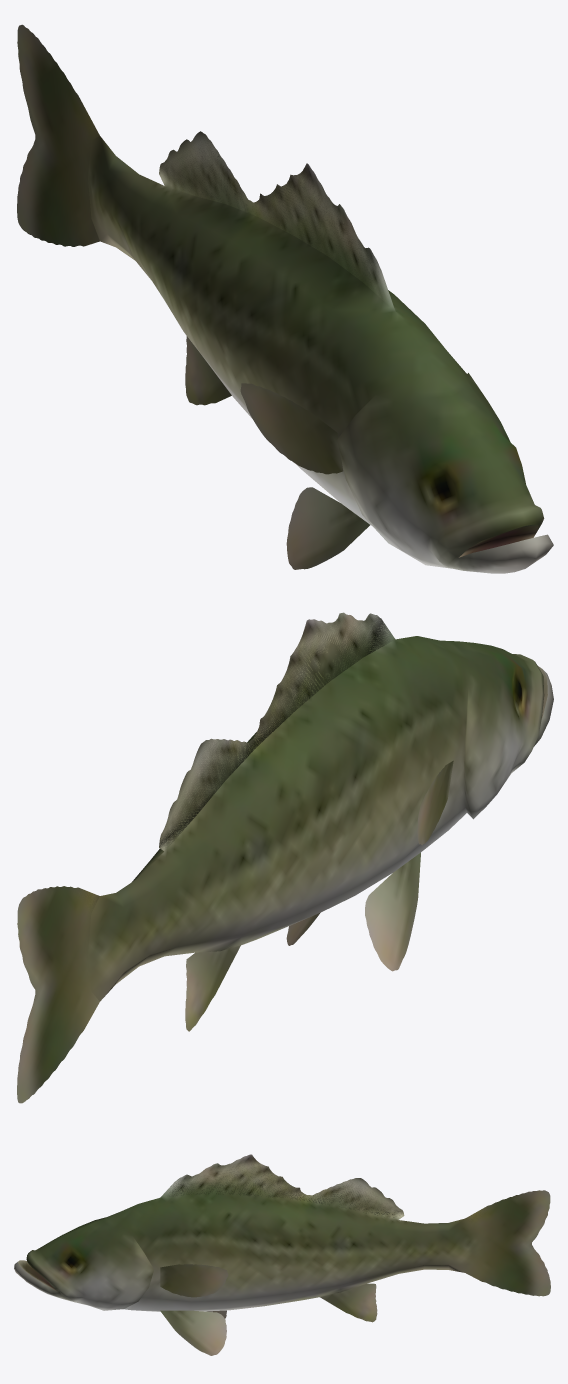
File: sea-bass.glb
3 views of the same model, one above another, from view 1: azimuth 30°, elevation 25°; view 2: azimuth 150°, elevation 25°; view 3: azimuth 270°, elevation 25° (orthographic). The views are drawn at different scales.
Bounding box in the file's own units: 2.45 × 4.94 × 11.73.
1 material, 1 textured.
